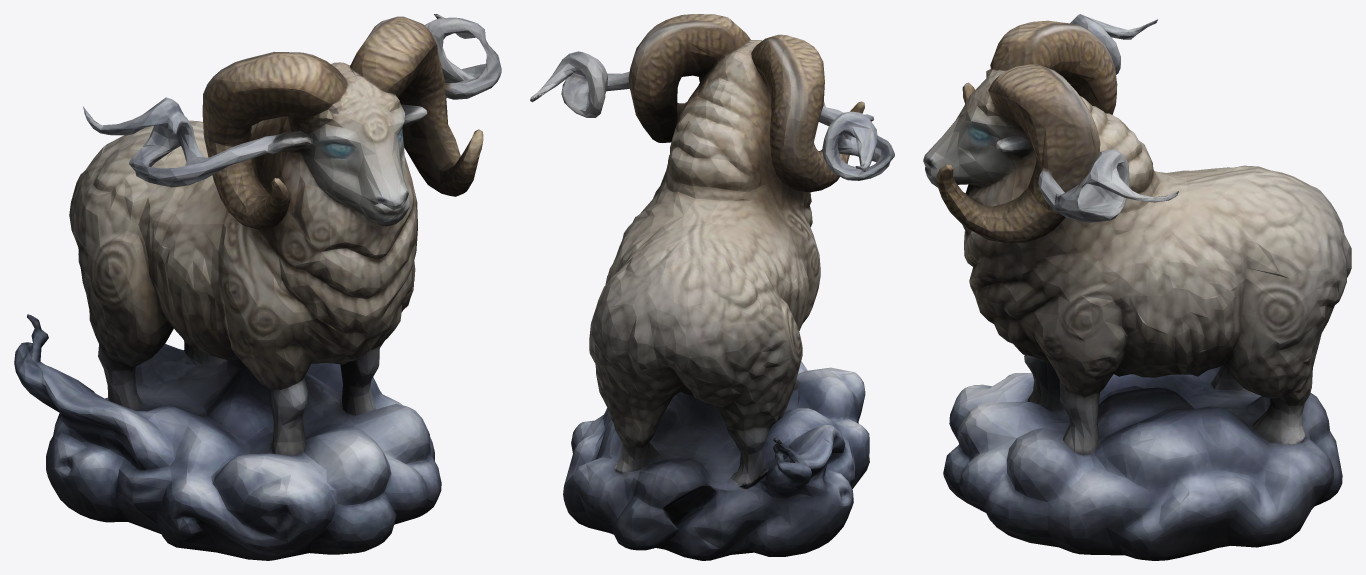
File: cloudRam.glb
The picture shows the model from 3 angles, left to right: view 1: azimuth 30°, elevation 25°; view 2: azimuth 150°, elevation 25°; view 3: azimuth 270°, elevation 25°; orthographic projection. The views are drawn at different scales.
Parts seen in each view (by area): view 1: world; view 2: world; view 3: world.
Boxes of the visible parts, x1=… form: world: x1=14, y1=14, x2=501, y2=560; world: x1=530, y1=14, x2=894, y2=560; world: x1=923, y1=14, x2=1351, y2=560.
Bounding box in the file's own units: 0.6431 × 0.7935 × 0.6574.
Materials: 1 (1 with a texture image).
